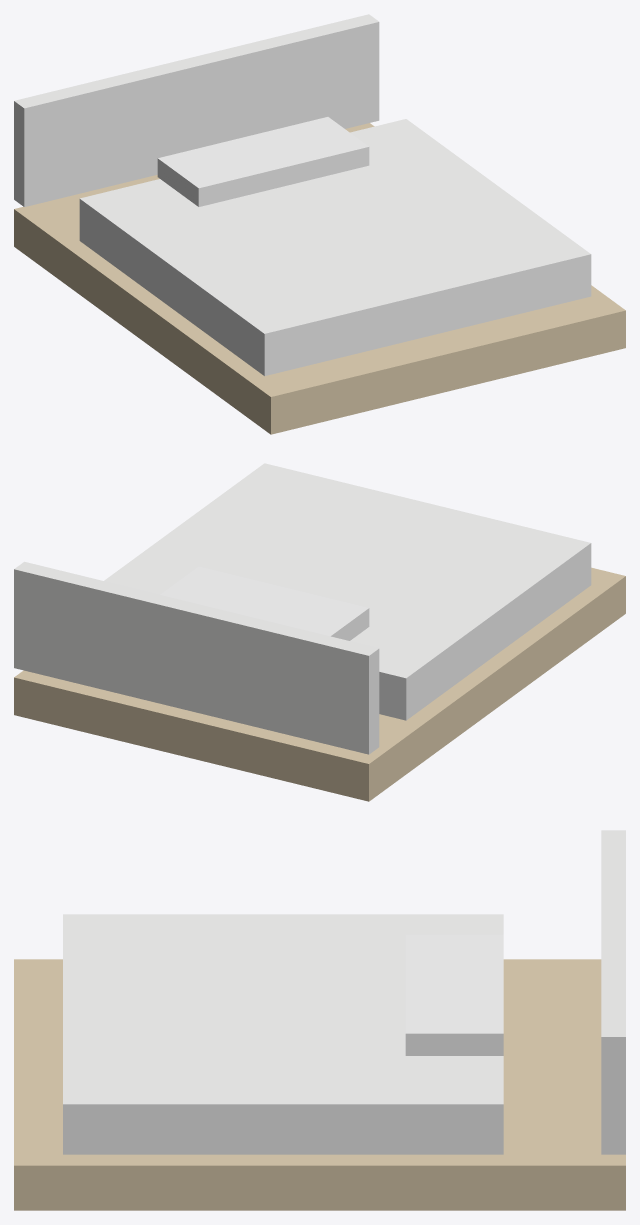
Rendered from cama-queen.glb.
The picture shows the model from 3 angles, top to bottom: view 1: azimuth 30°, elevation 25°; view 2: azimuth 150°, elevation 25°; view 3: azimuth 270°, elevation 25°; orthographic projection. The views are drawn at different scales.
Bounding box in the file's own units: 1.58 × 0.62 × 1.98.
